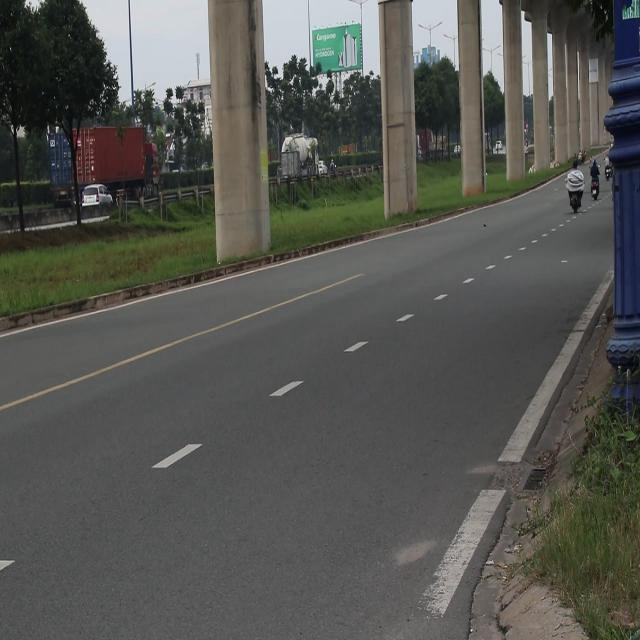car: (81, 184, 114, 208)
motorbike: (562, 187, 583, 217), (599, 156, 612, 184), (585, 176, 599, 197)
truck: (70, 126, 160, 203), (274, 139, 304, 189)
